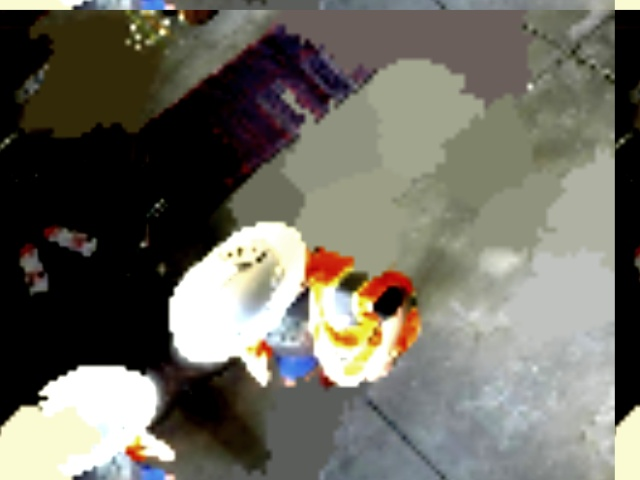three: (211, 224, 272, 277)
